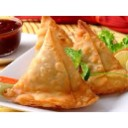samosa: (12, 29, 97, 108), (76, 20, 128, 93)
